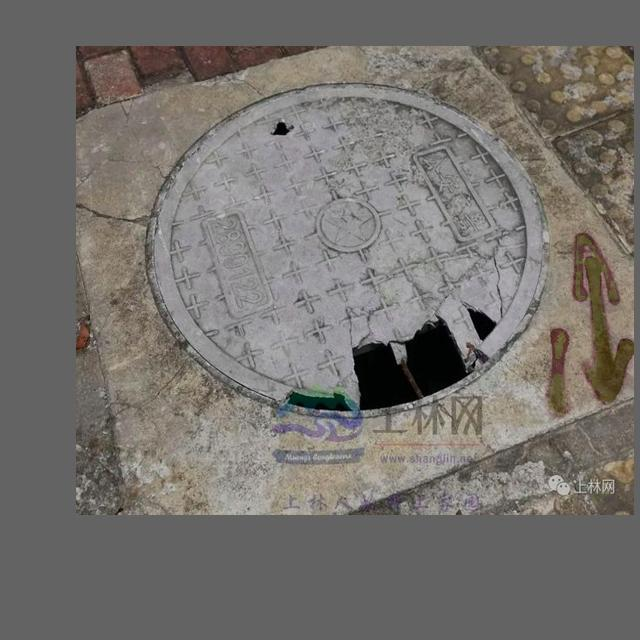broke: (132, 80, 559, 438)
